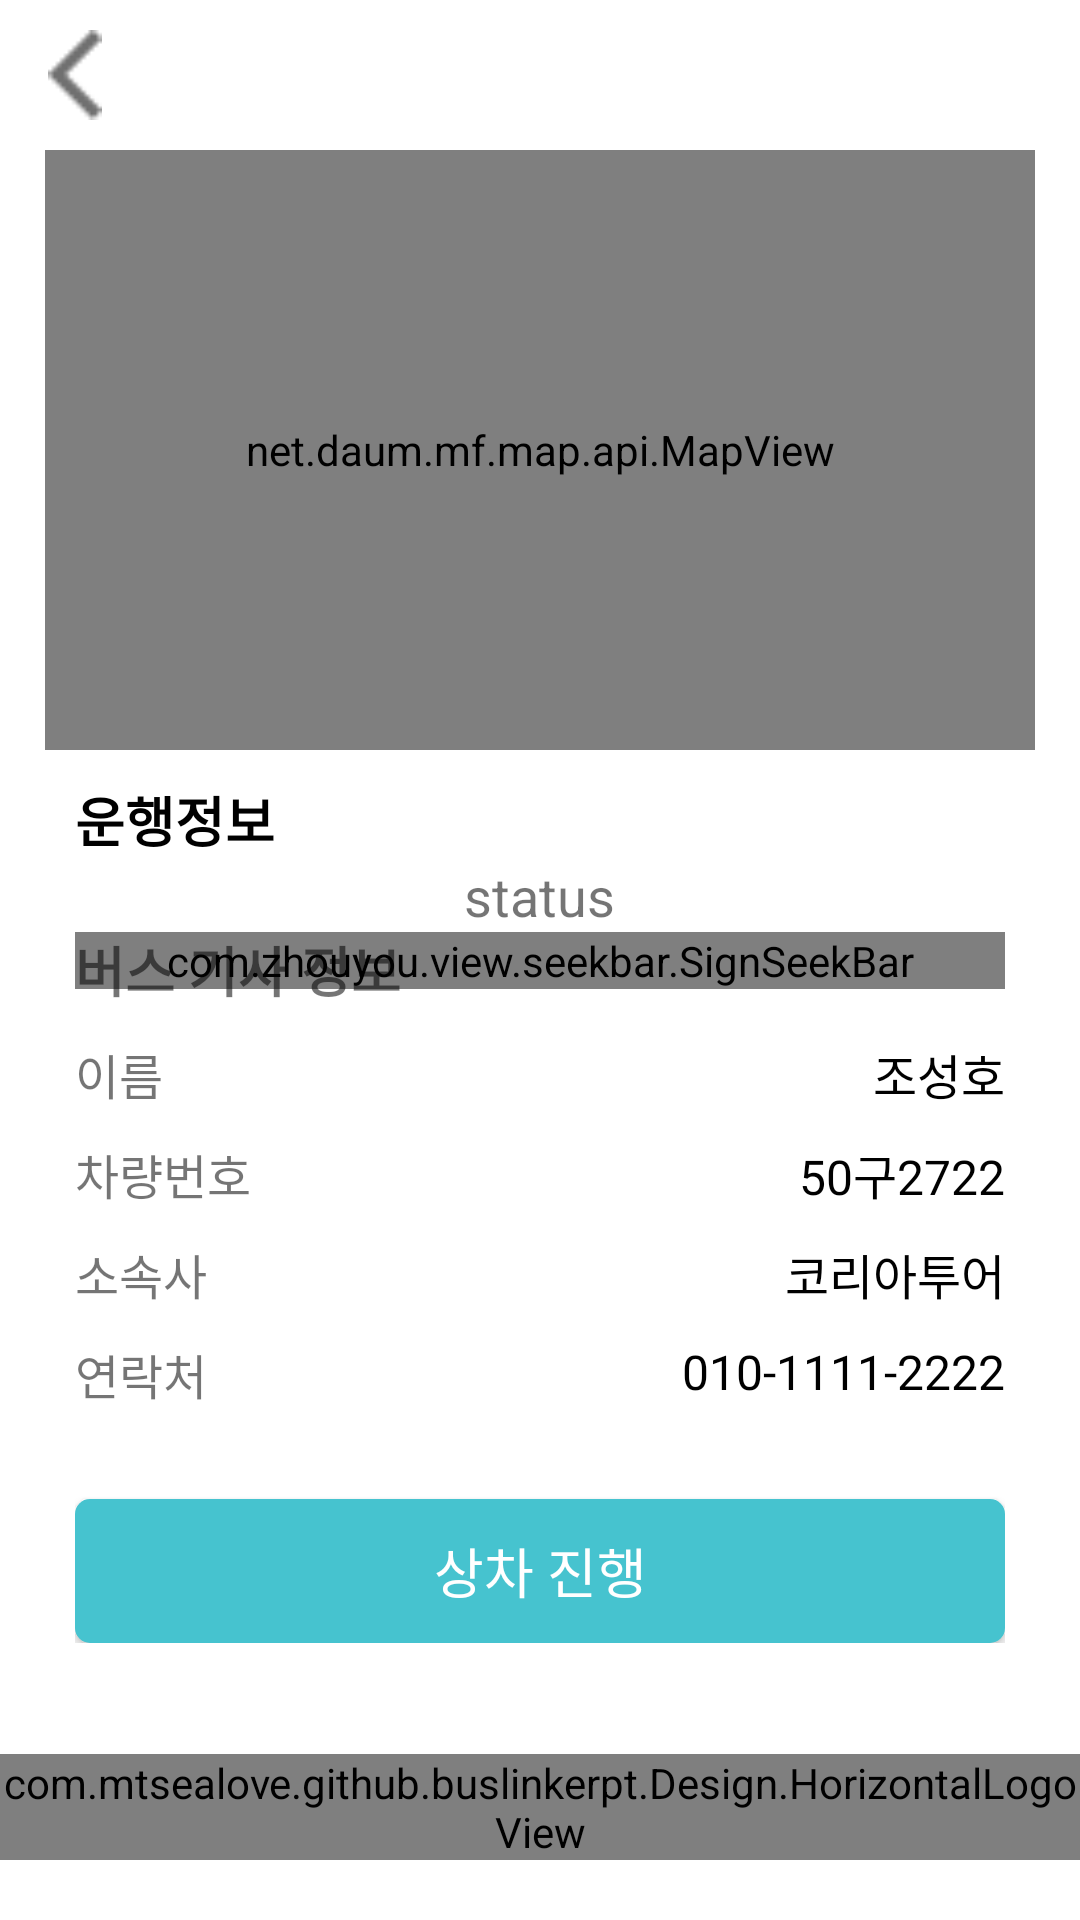

Named icons in this screenshot (1080px×1920px) and their centers, (x,y):
back: (75,75)
